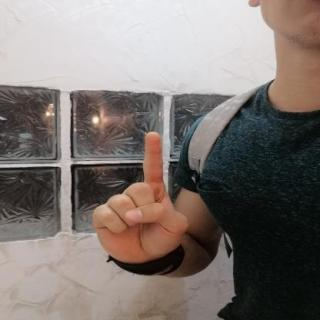BAA: (84, 124, 193, 270)
